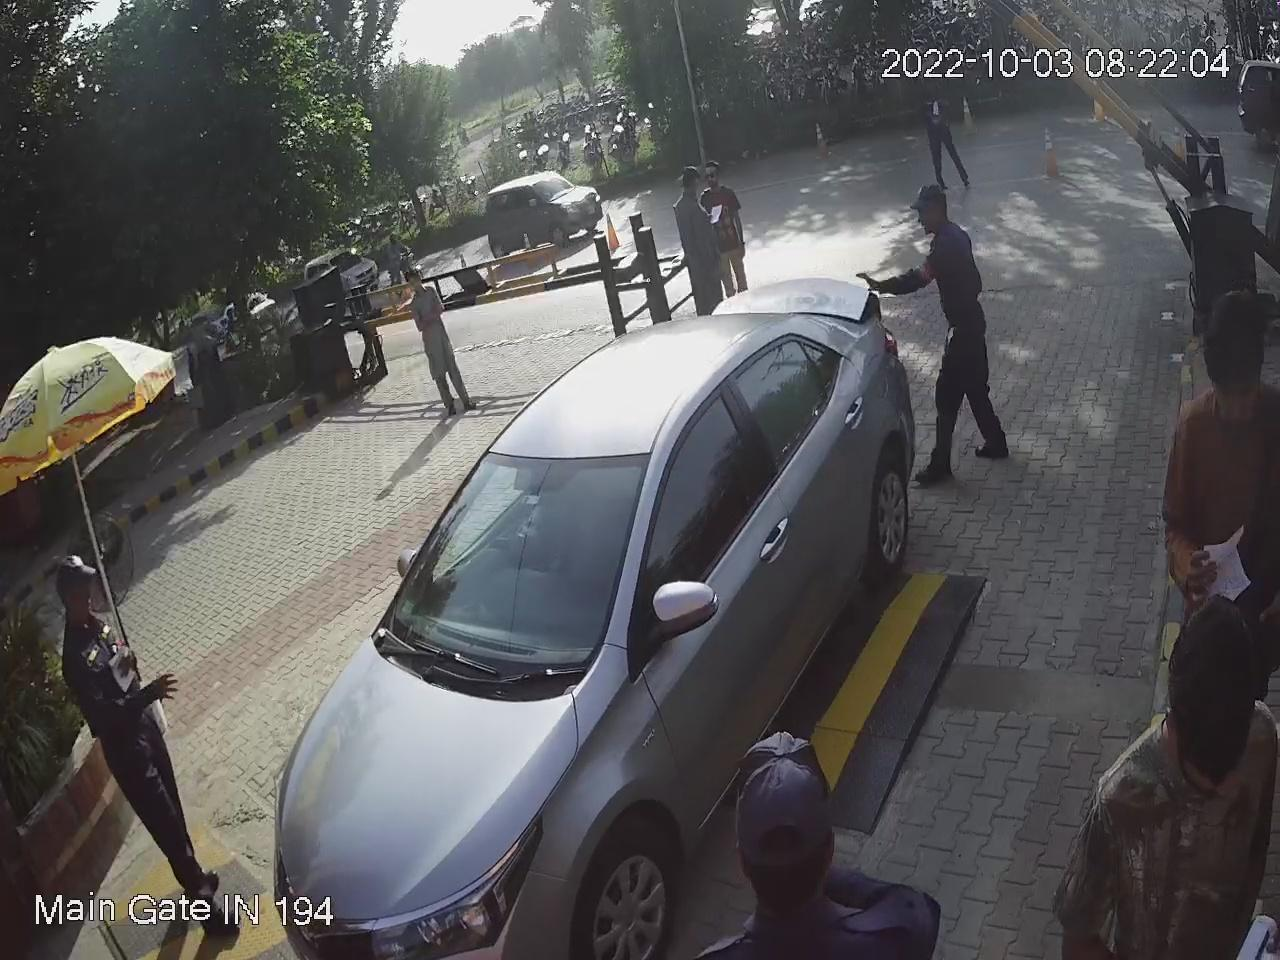windshield: (368, 440, 658, 680)
